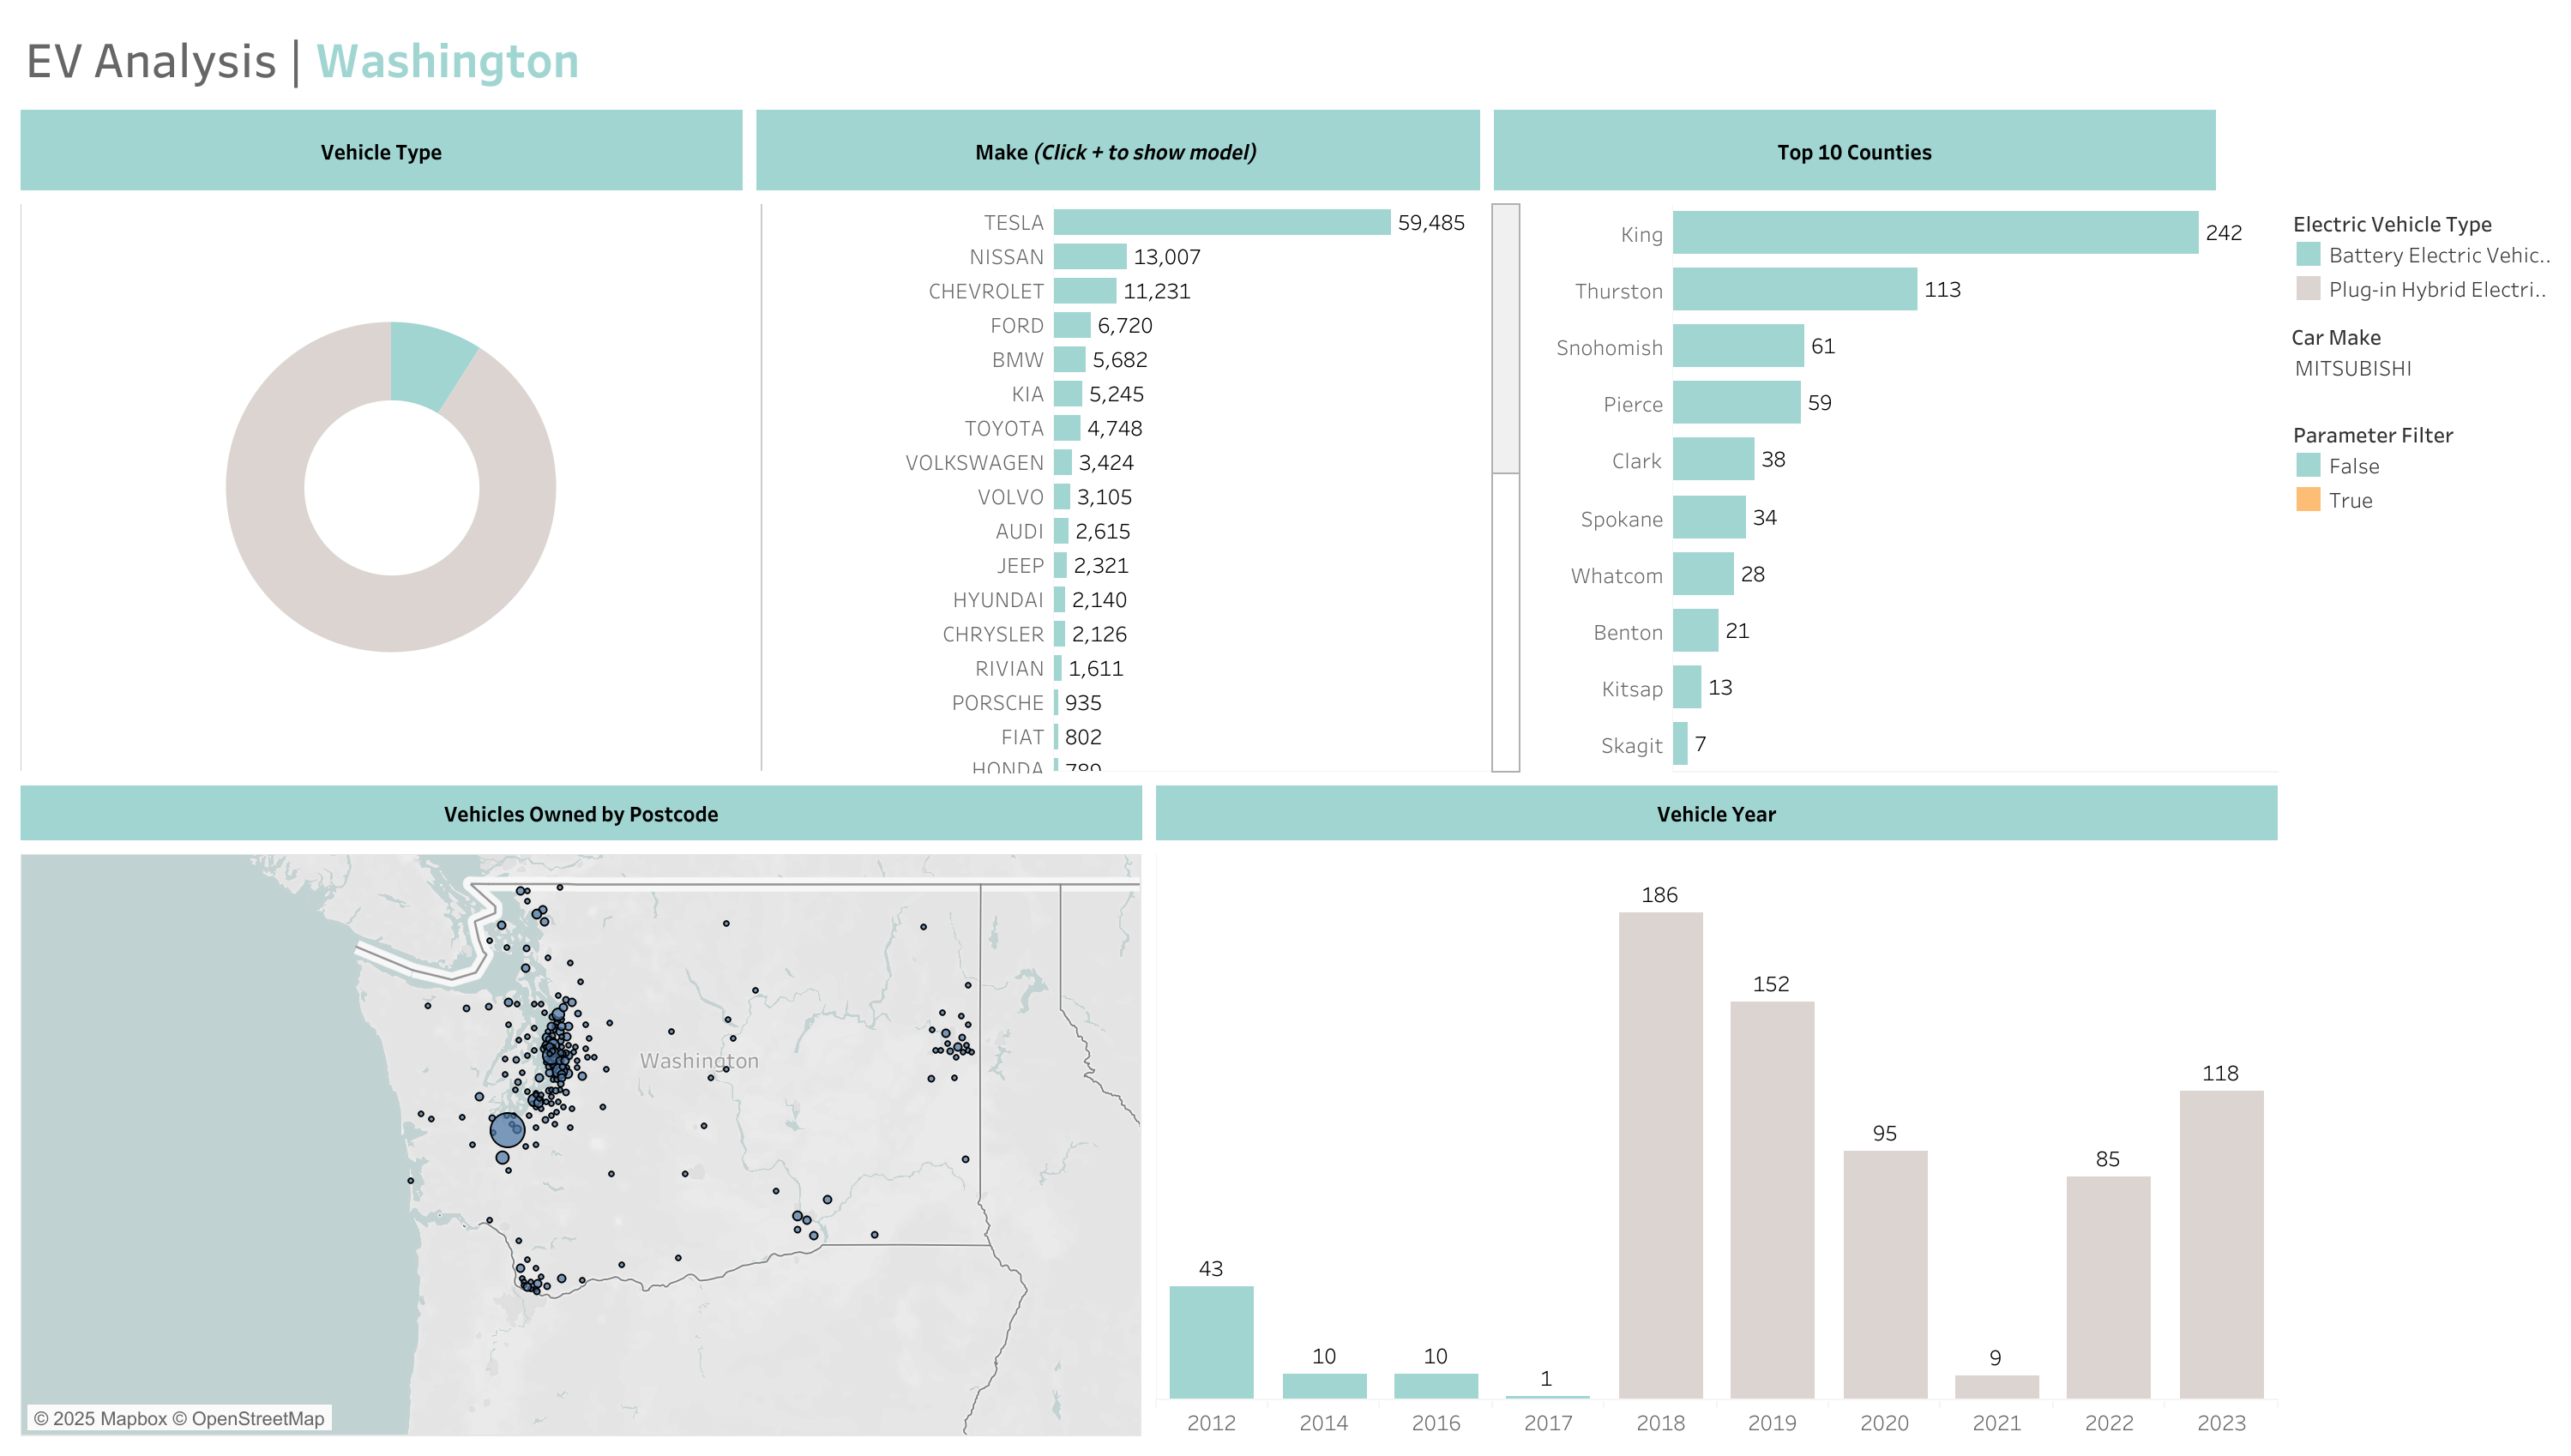

Layout of this report page (visuals, bound fields, positions):
{"tool":"tableau","page":{"name":"Dashboard 1","canvas":[1500,850],"ordinal":0},"visuals":[{"type":"text","box":[8,8,1484,52.4]},{"type":"text","box":[8,60.4,429.4,54.9]},{"type":"text","box":[437.4,60.4,429.4,54.9]},{"type":"text","box":[866.8,60.4,429.4,54.9]},{"type":"text","box":[1296.2,60.4,195.8,54.9]},{"type":"worksheet","title":"Vehicle Type","mark":"Pie","rows":["Calculation_359443560483123203","Calculation_359443560483123203"],"box":[8,115,442,339]},{"type":"worksheet","title":"Make and Model","mark":"Automatic","rows":["Make"],"cols":["DOL Vehicle ID"],"box":[450,115,441,339]},{"type":"worksheet","title":"Top 10 Counties","mark":"Automatic","rows":["County"],"cols":["DOL Vehicle ID"],"box":[891,115,441,339]},{"type":"legend","title":"Vehicle Type","param":"[federated.1akm7iu1ua81a515fw15w1d8vcmq].[none:Electric Vehicle Type:nk]","box":[1332,115.4,160,66]},{"type":"parameter","param":"[Parameters].[Parameter 1]","box":[1332,181.4,160,52]},{"type":"legend","title":"Make and Model","param":"[federated.1akm7iu1ua81a515fw15w1d8vcmq].[none:Calculation_359443560482390018:nk","box":[1332,233.4,160,66]},{"type":"text","box":[8,454.3,662,39.5]},{"type":"text","box":[670,454.3,662,39.5]},{"type":"worksheet","title":"Map","mark":"Automatic","box":[8,493.8,662,348.2]},{"type":"worksheet","title":"Year and Type","mark":"Bar","rows":["DOL Vehicle ID"],"cols":["Model Year"],"box":[670,493.8,662,348.2]}]}

Visuals, with their boxes in screenshot pixels (x1, y1, x2, y2), scaled from the page's 1500x850 canvas onto the 2571x1456 screenshot:
text: rect(14, 14, 2557, 104)
text: rect(14, 104, 750, 197)
text: rect(750, 104, 1485, 197)
text: rect(1485, 104, 2222, 197)
text: rect(2222, 104, 2557, 197)
"Vehicle Type" worksheet (Pie marks): rect(14, 197, 771, 778)
"Make and Model" worksheet: rect(771, 197, 1527, 778)
"Top 10 Counties" worksheet: rect(1527, 197, 2283, 778)
"Vehicle Type" legend: rect(2283, 198, 2557, 310)
parameter: rect(2283, 310, 2557, 400)
"Make and Model" legend: rect(2283, 400, 2557, 513)
text: rect(14, 779, 1148, 845)
text: rect(1148, 779, 2283, 845)
"Map" worksheet: rect(14, 845, 1148, 1442)
"Year and Type" worksheet (Bar marks): rect(1148, 845, 2283, 1442)
